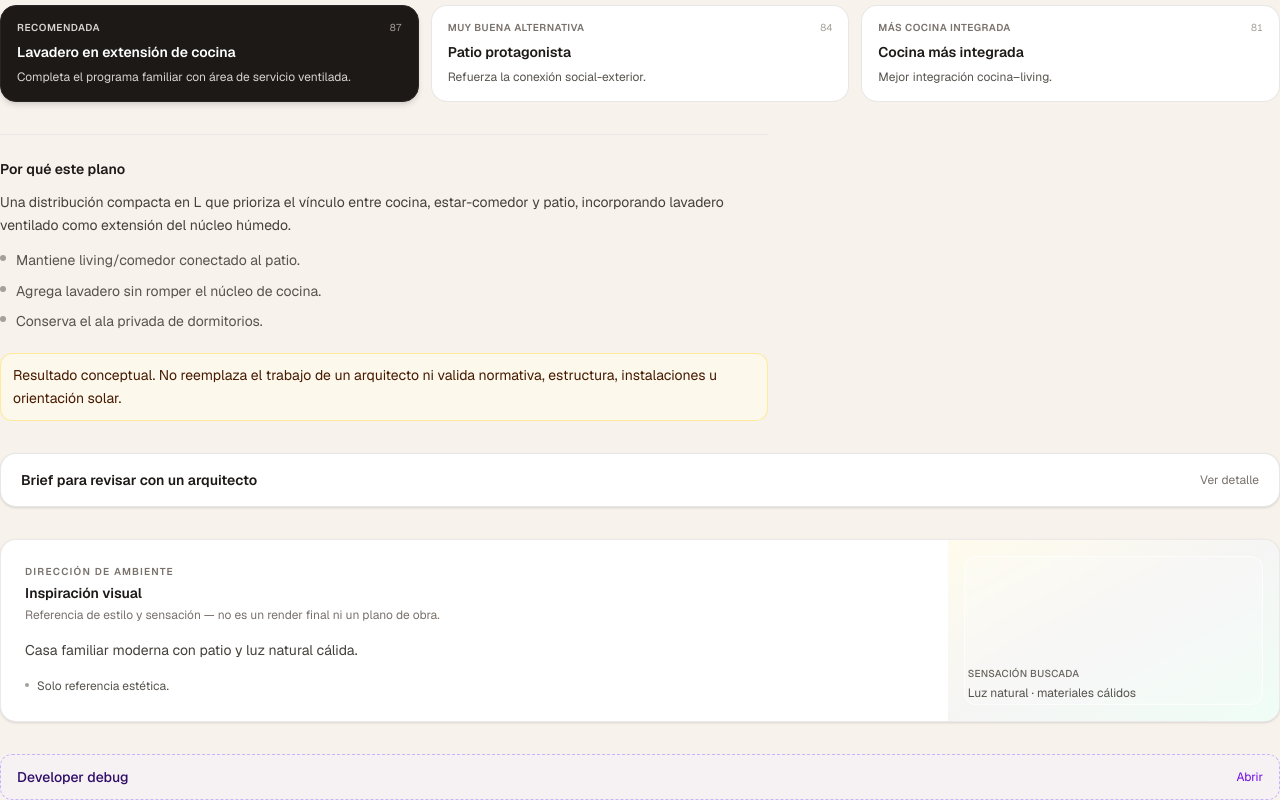
Test: FloorPlanResultView › shows debug panel with conceptual renderer in dev/admin mode
The image size is (1280, 800).
(page scrolled)
Click the button with test id "floor-plan-debug-toggle". click: [73, 777]
box: [1,755,1279,799]
(page scrolled)
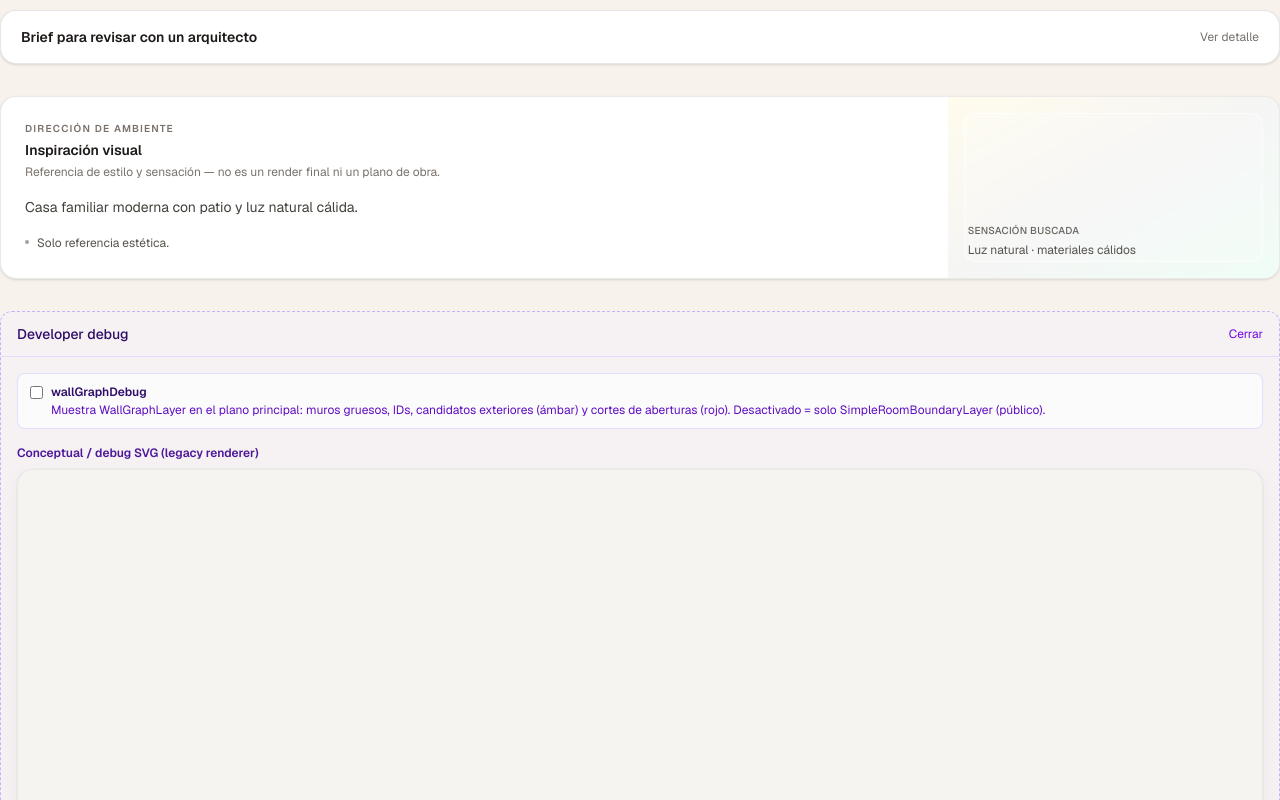
Now the label with test id "wall-graph-debug-toggle" is shown, box [17,373,1263,429]
